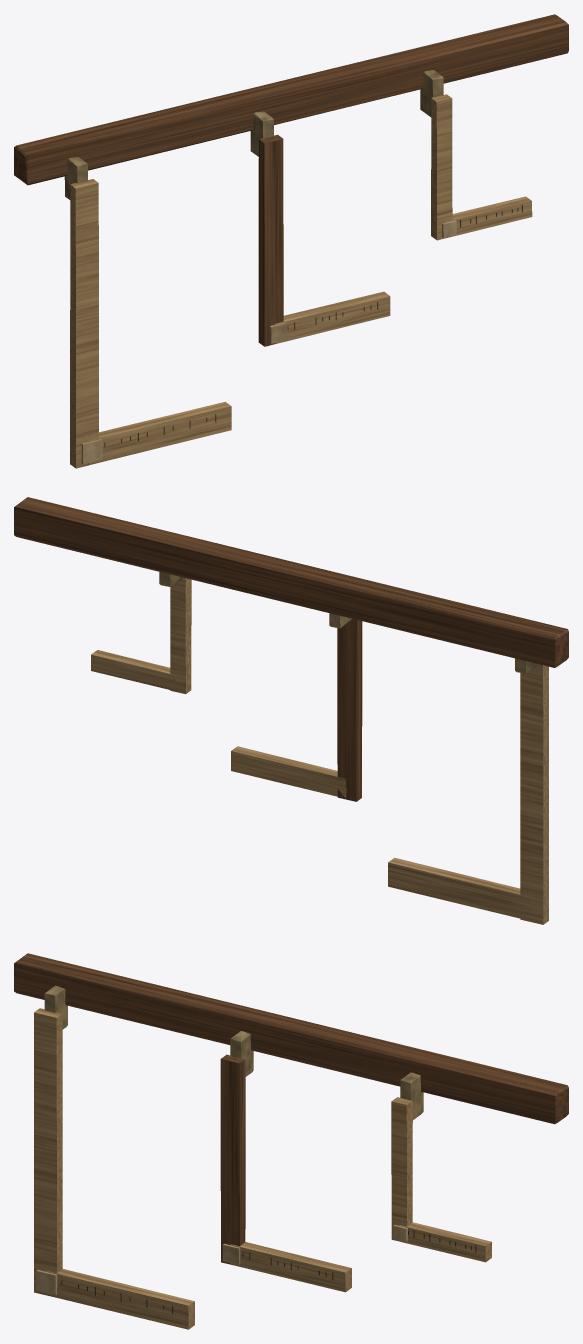
File: WestWallSquares_LOD2.fbx
3 views of the same model, one above another, from view 1: azimuth 30°, elevation 25°; view 2: azimuth 150°, elevation 25°; view 3: azimuth 330°, elevation 25° (orthographic).
Parts seen in each view (by area): view 1: WestWallSquares.001; view 2: WestWallSquares.001; view 3: WestWallSquares.001.
Part boxes in pixels (bbox=[...]): WestWallSquares.001: bbox=[14, 14, 568, 468]; WestWallSquares.001: bbox=[14, 497, 568, 924]; WestWallSquares.001: bbox=[14, 953, 568, 1329].
Size of the model in its own units: 1.09 by 0.5983 by 0.1108.
Materials: 1 (1 with a texture image).
